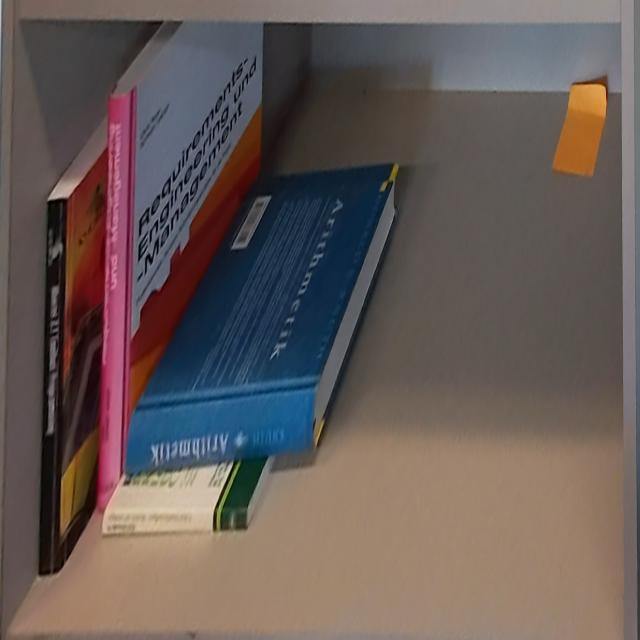Book Spine: (125, 389, 319, 476), (97, 91, 133, 510), (40, 199, 67, 582), (102, 508, 248, 536)
